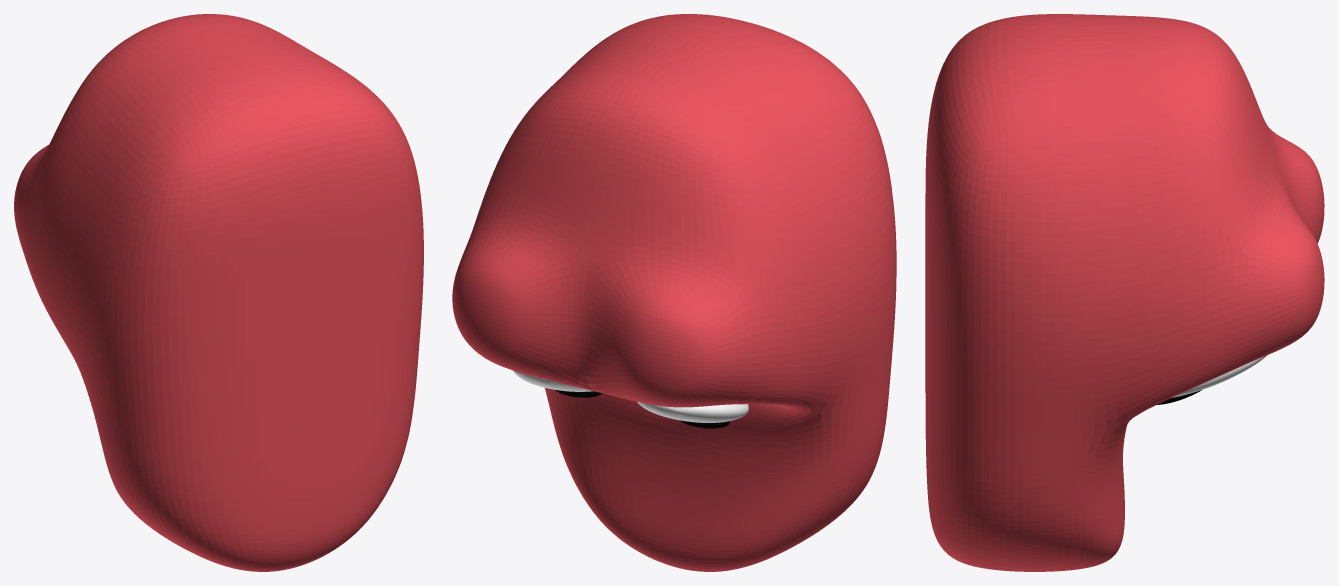
3 views of the same model, side by side, from view 1: azimuth 30°, elevation 25°; view 2: azimuth 150°, elevation 25°; view 3: azimuth 270°, elevation 25° (orthographic). The views are drawn at different scales.
Visible parts, largest first — view 1: Cube.004; view 2: Cube.004; view 3: Cube.004.
Boxes of the visible parts, x1=… form: Cube.004: x1=14, y1=14, x2=423, y2=571; Cube.004: x1=452, y1=14, x2=896, y2=571; Cube.004: x1=925, y1=14, x2=1324, y2=571.
Bounding box in the file's own units: 223 × 327 × 225.
